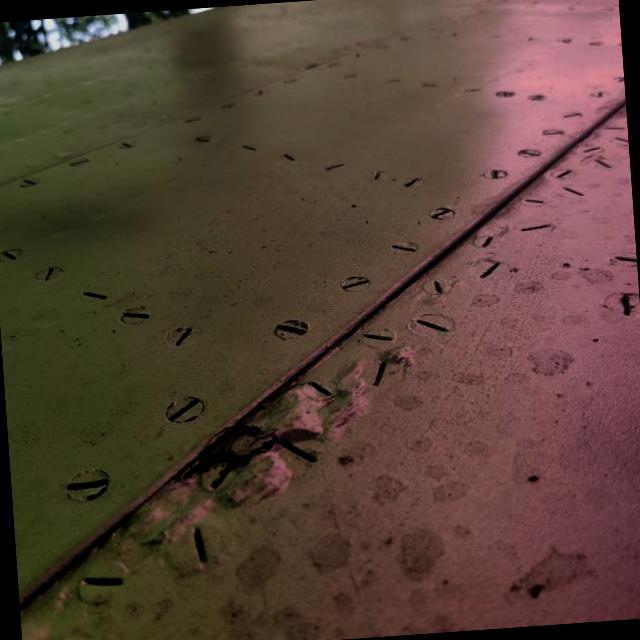paint-off: (146, 391, 310, 517)
